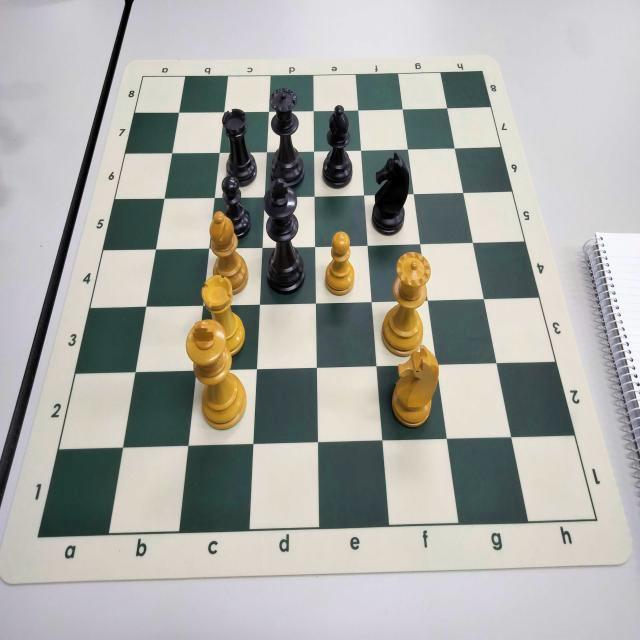chess-table-corners: (576, 494, 612, 542), (26, 514, 56, 551), (132, 63, 156, 89), (472, 59, 492, 86)
